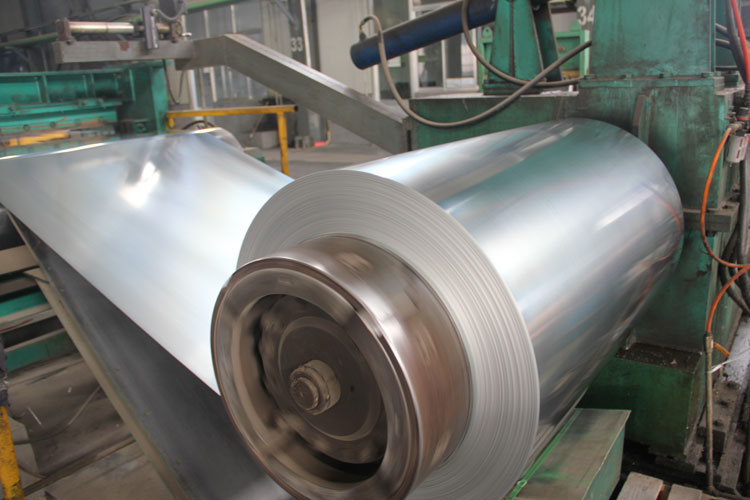steel-coil: (2, 121, 689, 409)
